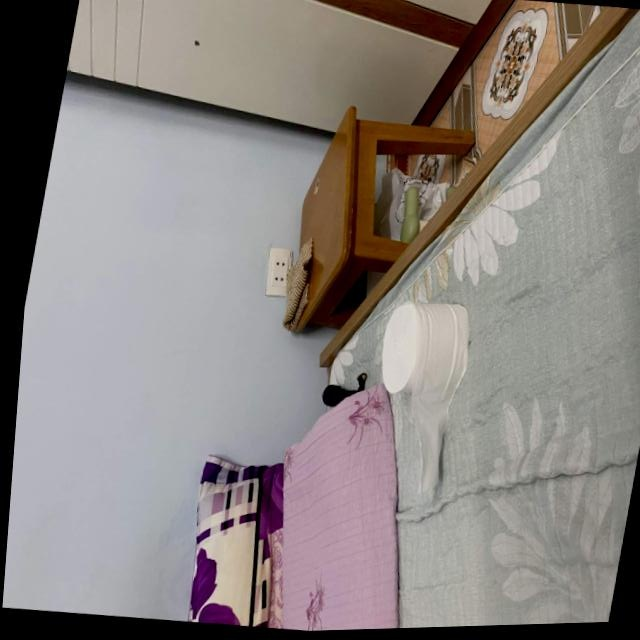outlet: (261, 247, 296, 300)
